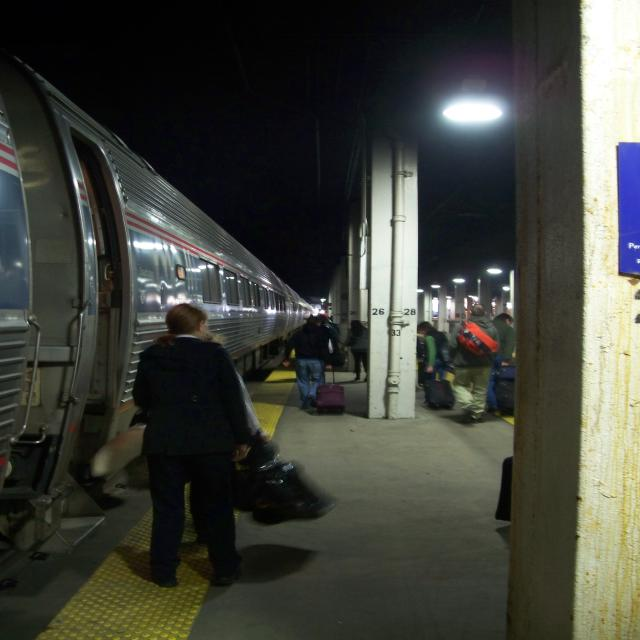body: (133, 304, 252, 592), (190, 330, 270, 546), (445, 304, 500, 424), (280, 316, 336, 410), (479, 312, 519, 414), (416, 321, 451, 405), (342, 319, 369, 383), (316, 314, 341, 336), (323, 312, 331, 320)
